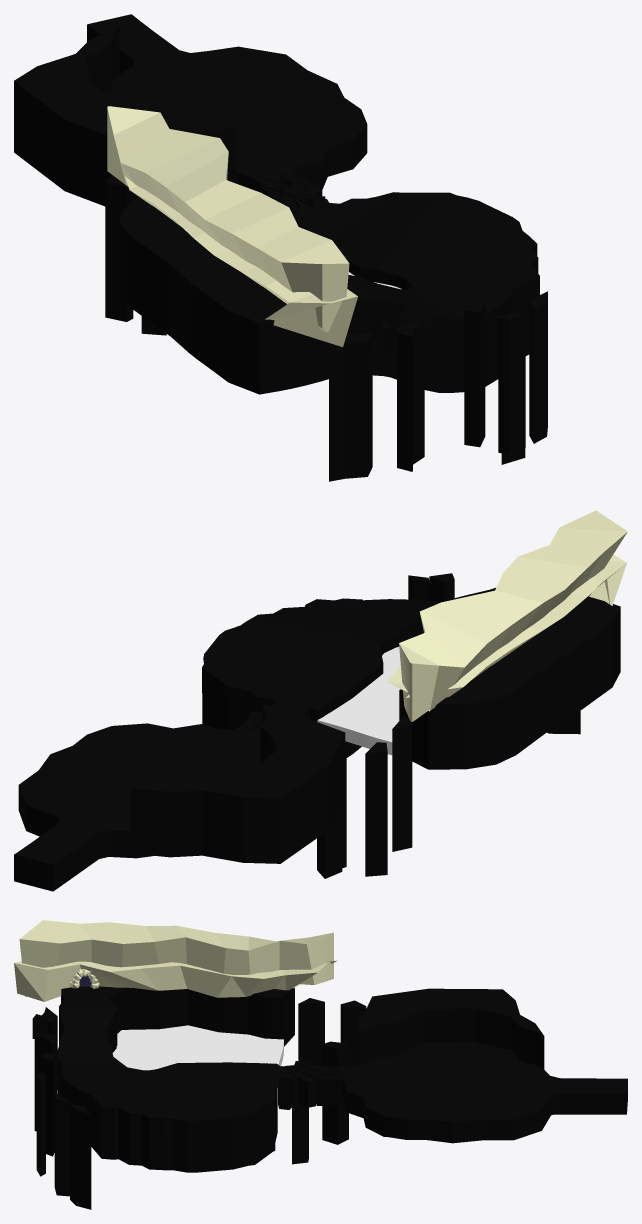
The model's file is crete vallery TEST 11.29.fbx.
3 views of the same model, one above another, from view 1: azimuth 30°, elevation 25°; view 2: azimuth 150°, elevation 25°; view 3: azimuth 270°, elevation 25° (orthographic). The views are drawn at different scales.
Visible parts, largest first — view 1: Curve.023, Curve.038, Cube.001, Curve.039 backup, Curve.022, Curve.039, Curve.024, Cube.003, Curve.025, Curve.030, Curve.027, Curve.028 (+3 smaller); view 2: Curve.022, Curve.023, Curve.038, Cube.001, Curve.039 backup, Curve.039, Curve.020, Cube.003, Curve.033, Curve.031, Curve.040, Curve (+2 smaller); view 3: Curve.023, Curve.039 backup, Cube.001, Curve.022, Curve.039, Curve.038, Cube.003, Curve.020, Curve.028, Curve.040, Curve.031, Curve.036 (+10 smaller).
Boxes of the visible parts, x1=… form: Curve.023: x1=87, y1=14, x2=367, y2=189; Curve.038: x1=119, y1=196, x2=348, y2=394; Cube.001: x1=107, y1=106, x2=349, y2=332; Curve.039 backup: x1=293, y1=192, x2=539, y2=347; Curve.022: x1=14, y1=26, x2=236, y2=206; Curve.039: x1=295, y1=192, x2=529, y2=392; Curve.024: x1=329, y1=332, x2=372, y2=481; Cube.003: x1=125, y1=176, x2=357, y2=347; Curve.025: x1=397, y1=322, x2=424, y2=471; Curve.030: x1=498, y1=312, x2=525, y2=454; Curve.027: x1=464, y1=301, x2=485, y2=447; Curve.028: x1=529, y1=291, x2=547, y2=443; Curve.022: x1=131, y1=704, x2=345, y2=863; Curve.023: x1=14, y1=723, x2=260, y2=890; Curve.038: x1=399, y1=596, x2=620, y2=769; Cube.001: x1=399, y1=510, x2=627, y2=721; Curve.039 backup: x1=202, y1=587, x2=495, y2=721; Curve.039: x1=202, y1=624, x2=422, y2=757; Curve.020: x1=317, y1=647, x2=400, y2=755; Cube.003: x1=387, y1=554, x2=626, y2=711; Curve.033: x1=365, y1=742, x2=387, y2=876; Curve.031: x1=392, y1=715, x2=412, y2=851; Curve.040: x1=14, y1=805, x2=153, y2=891; Curve: x1=203, y1=653, x2=351, y2=709; Curve.023: x1=340, y1=1042, x2=627, y2=1142; Curve.039 backup: x1=57, y1=999, x2=277, y2=1141; Cube.001: x1=19, y1=920, x2=333, y2=996; Curve.022: x1=358, y1=988, x2=544, y2=1068; Curve.039: x1=57, y1=1008, x2=277, y2=1172; Curve.038: x1=61, y1=986, x2=294, y2=1046; Cube.003: x1=14, y1=960, x2=337, y2=1001; Curve.020: x1=112, y1=1025, x2=283, y2=1070; Curve.028: x1=70, y1=1104, x2=91, y2=1209; Curve.040: x1=345, y1=1084, x2=627, y2=1143; Curve.031: x1=298, y1=998, x2=324, y2=1066; Curve.036: x1=322, y1=1041, x2=348, y2=1144.
Size of the model in its own units: 18713 by 13283 by 38669.
